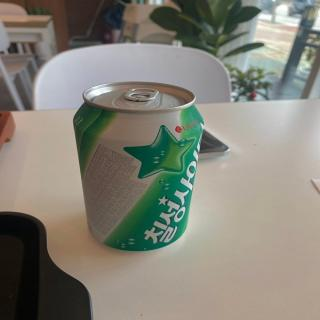cocacola: (72, 80, 206, 252)
